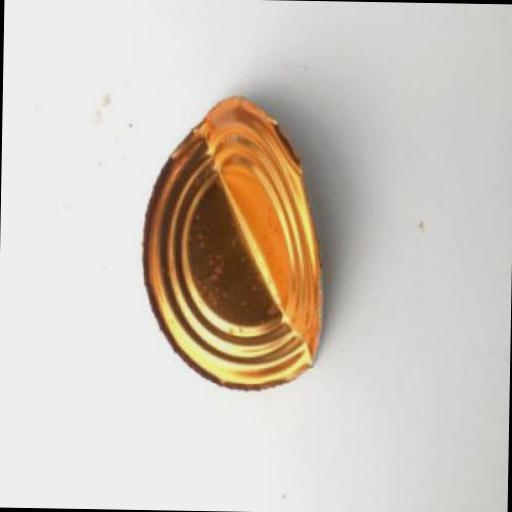metal: (138, 91, 327, 392)
